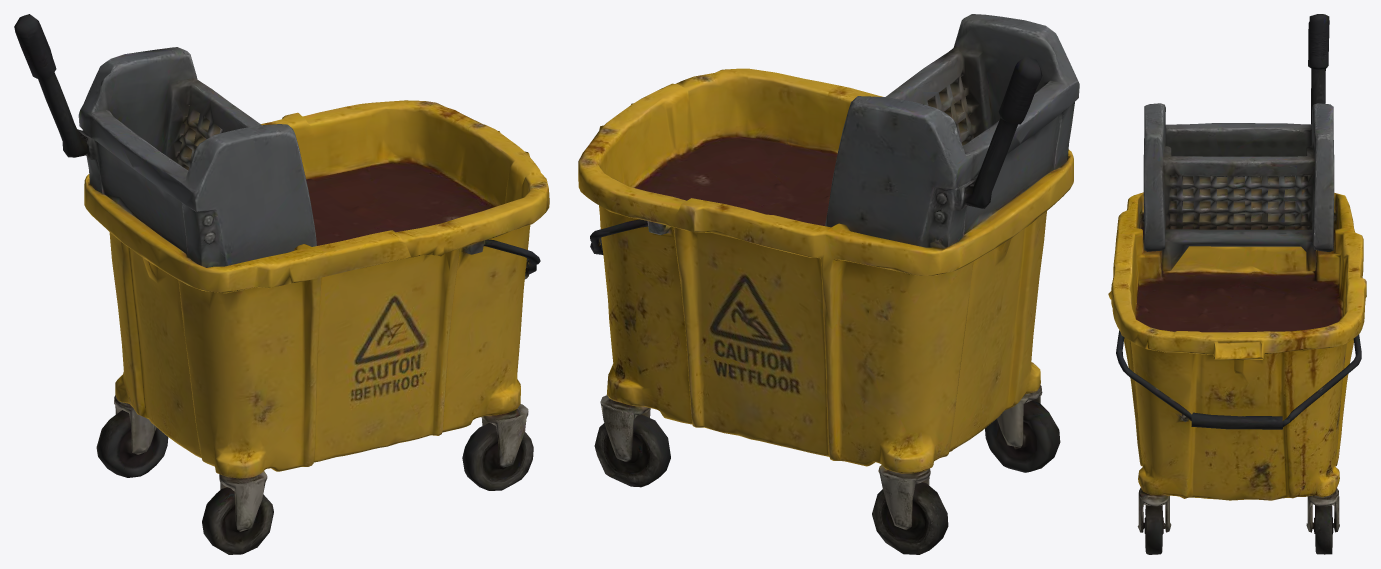
File: bucket.glb
The picture shows the model from 3 angles, left to right: view 1: azimuth 30°, elevation 25°; view 2: azimuth 150°, elevation 25°; view 3: azimuth 270°, elevation 25°; orthographic projection. The views are drawn at different scales.
Visible parts, largest first — view 1: tripo_node_afb1a7a3-1ac8-40df-9b9b-59e9168c4e55; view 2: tripo_node_afb1a7a3-1ac8-40df-9b9b-59e9168c4e55; view 3: tripo_node_afb1a7a3-1ac8-40df-9b9b-59e9168c4e55.
Part boxes in pixels (bbox=[...]): tripo_node_afb1a7a3-1ac8-40df-9b9b-59e9168c4e55: bbox=[14, 14, 549, 554]; tripo_node_afb1a7a3-1ac8-40df-9b9b-59e9168c4e55: bbox=[578, 14, 1079, 554]; tripo_node_afb1a7a3-1ac8-40df-9b9b-59e9168c4e55: bbox=[1108, 14, 1366, 554].
Bounding box in the file's own units: 0.9711 × 1 × 0.5938.
1 material, 1 textured.
